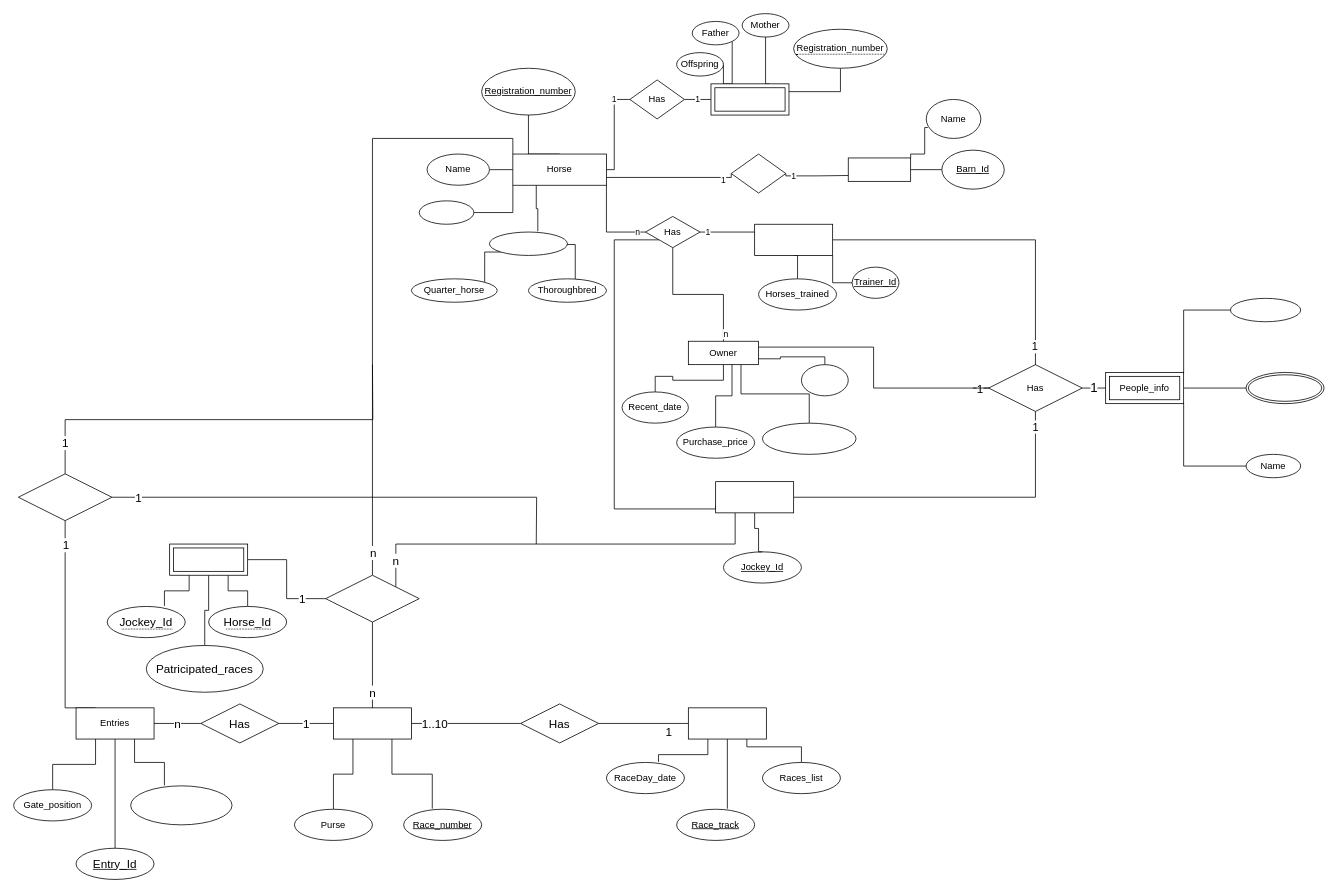
Image size: 1338x893. Some labels were removed from this diagram. Here are the shapes that lost their labels. From the top down, the centre of each, then its label:
At (749,99): "Heritage".
At (758,173): "Stabled".
At (879,169): "Barn".
At (446,212): "Gender".
At (528,243): "Type".
At (793,239): "Horse_Trainer".
At (1265,310): "Address".
At (824,380): "Owner_Id".
At (1284,388): "Phone_number".
At (809,438): "Owner_percentage".
At (65,497): "Indicates".
At (754,497): "Jockey".
At (208,559): "History".
At (372,598): "Participate in".
At (372,723): "Race".
At (727,723): "Race_schedule".
At (181,805): "Finishing_position".
